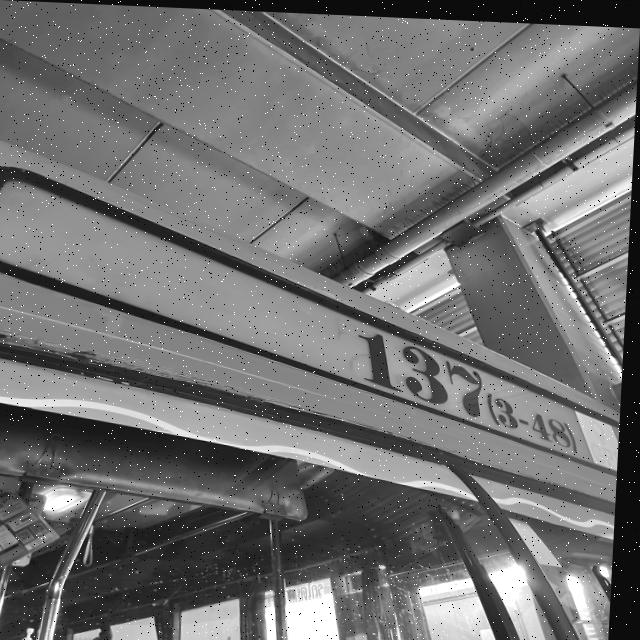BMTA-bus: (0, 133, 635, 640)
Bus-Line-Number: (337, 309, 599, 456)
